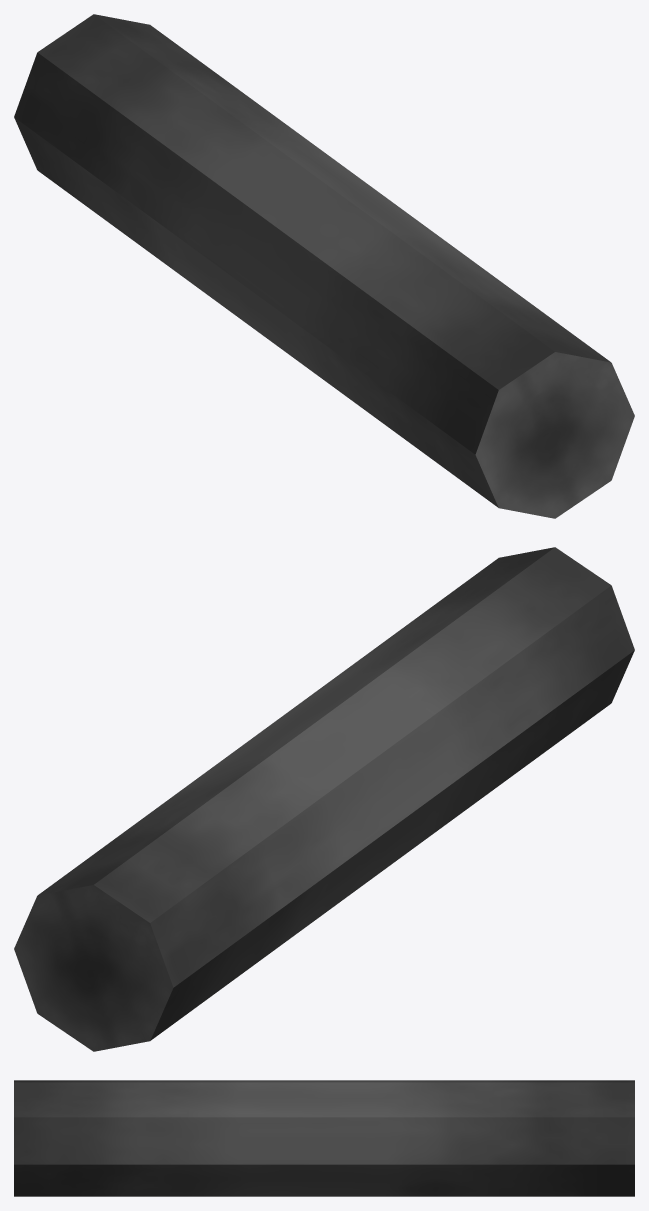
File: pipe.fbx
The picture shows the model from 3 angles, top to bottom: view 1: azimuth 30°, elevation 25°; view 2: azimuth 150°, elevation 25°; view 3: azimuth 270°, elevation 25°; orthographic projection. The views are drawn at different scales.
Parts seen in each view (by area): view 1: pipe; view 2: pipe; view 3: pipe.
Part boxes in pixels (left/top/right/bottom): pipe: left=14, top=14, right=634, bottom=518; pipe: left=14, top=547, right=634, bottom=1051; pipe: left=14, top=1080, right=634, bottom=1196.
Bounding box in the file's own units: 0.0998 × 0.0998 × 0.5.
1 material, 1 textured.
